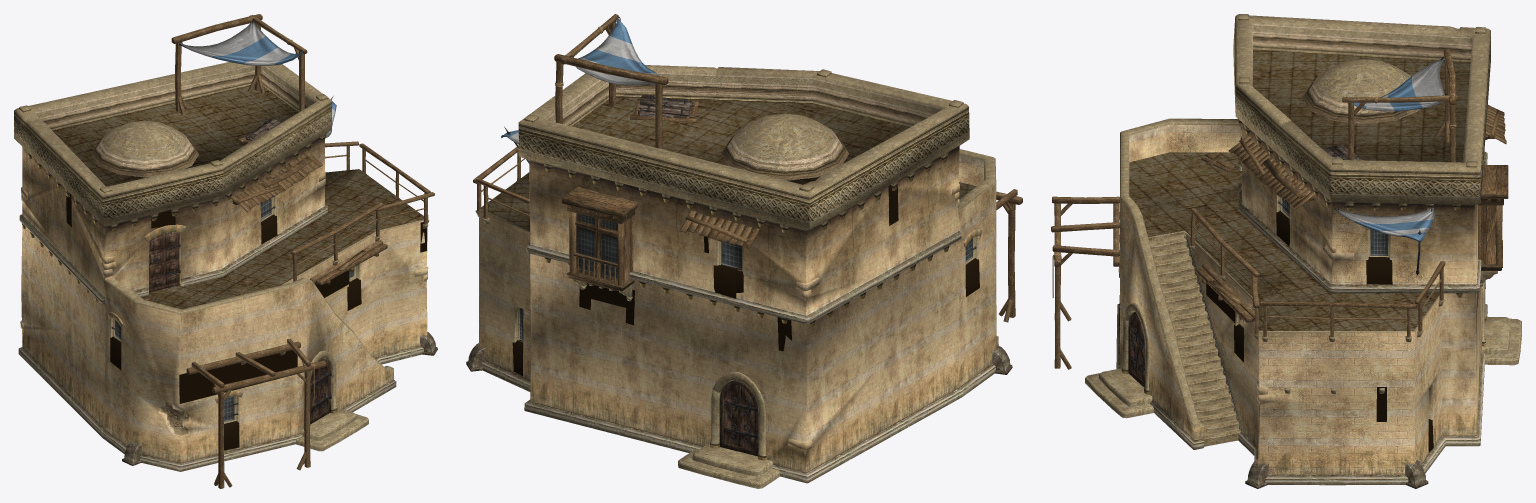
The model's file is oriental_houses_02.obj.
3 renders of one model, left to right at view 1: azimuth 30°, elevation 25°; view 2: azimuth 150°, elevation 25°; view 3: azimuth 270°, elevation 25°, orthographic. The views are drawn at different scales.
Parts seen in each view (by area): view 1: oriental_houses_02.obj; view 2: oriental_houses_02.obj; view 3: oriental_houses_02.obj.
Part boxes in pixels (x1=…): oriental_houses_02.obj: x1=14, y1=14, x2=437, y2=488; oriental_houses_02.obj: x1=466, y1=14, x2=1022, y2=488; oriental_houses_02.obj: x1=1051, y1=14, x2=1521, y2=488.
Size of the model in its own units: 497 by 401 by 503.
16 materials, 16 textured.
